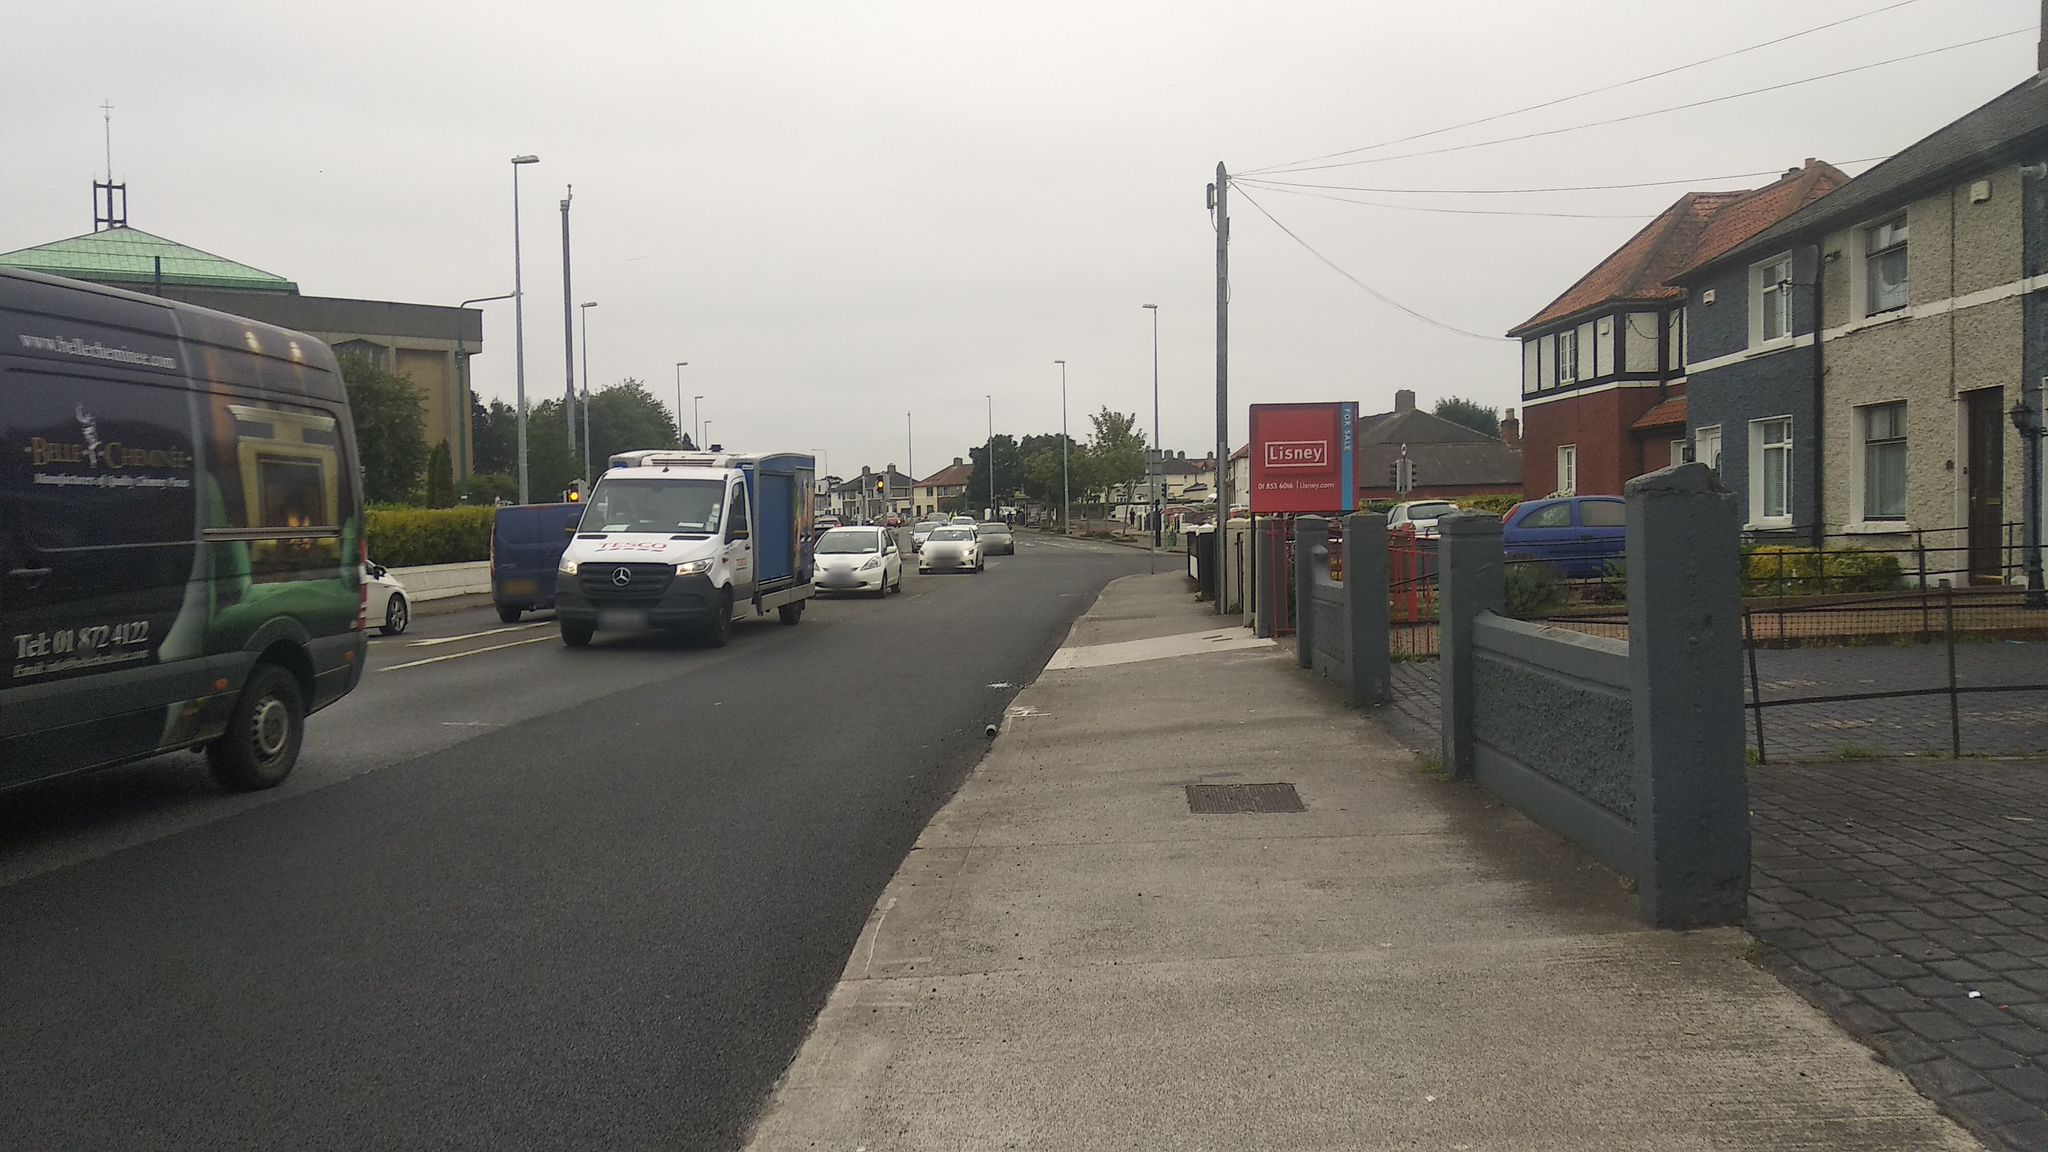property sign: (1228, 361, 1390, 535)
